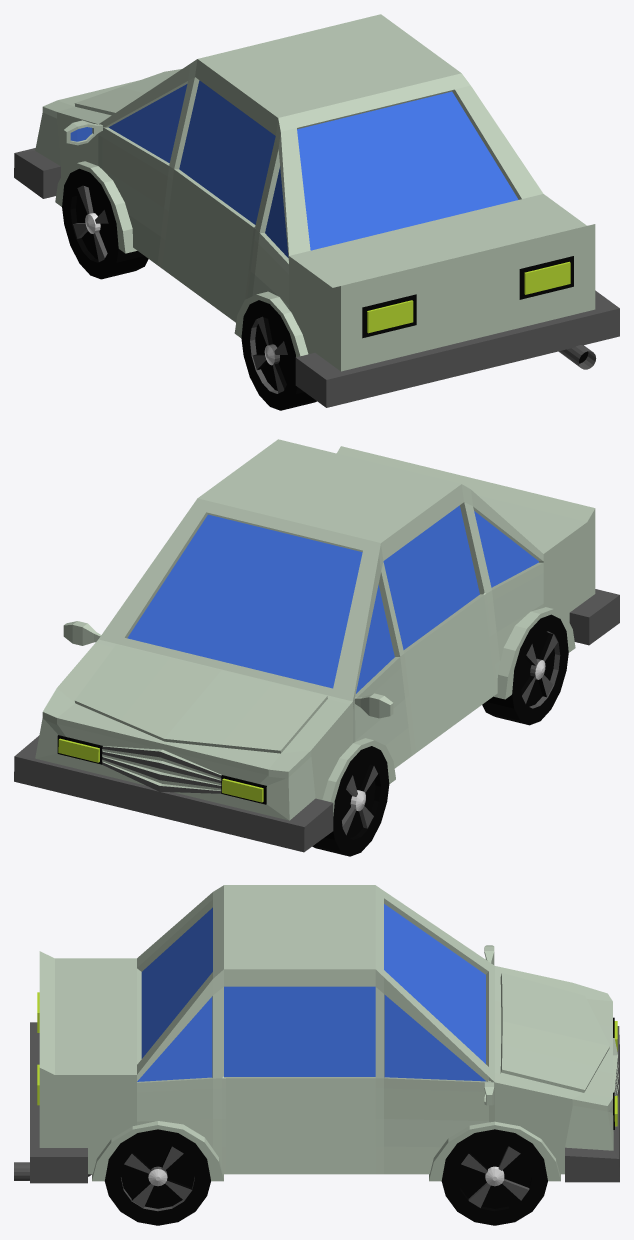
File: car_5.fbx
3 views of the same model, one above another, from view 1: azimuth 30°, elevation 25°; view 2: azimuth 150°, elevation 25°; view 3: azimuth 270°, elevation 25° (orthographic). The views are drawn at different scales.
Visible parts, largest first — view 1: Car5; view 2: Car5; view 3: Car5.
Boxes of the visible parts, x1,y1,x2,y2 form: Car5: [14, 14, 619, 410]; Car5: [14, 439, 619, 856]; Car5: [14, 885, 619, 1225].
Size of the model in its own units: 73.11 by 53.96 by 125.
